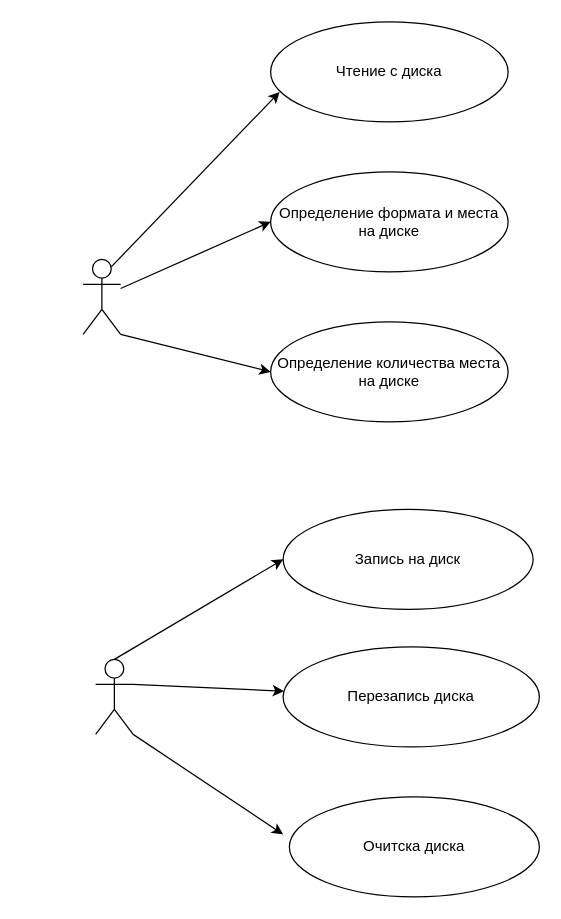
The diagram is 561 pixels wide and 919 high, and some of its shapes have lost their labels. Each missing label, with the centre of its shape:
"OS" goes at [101,296].
"Программа записи на диск" goes at [113,696].
